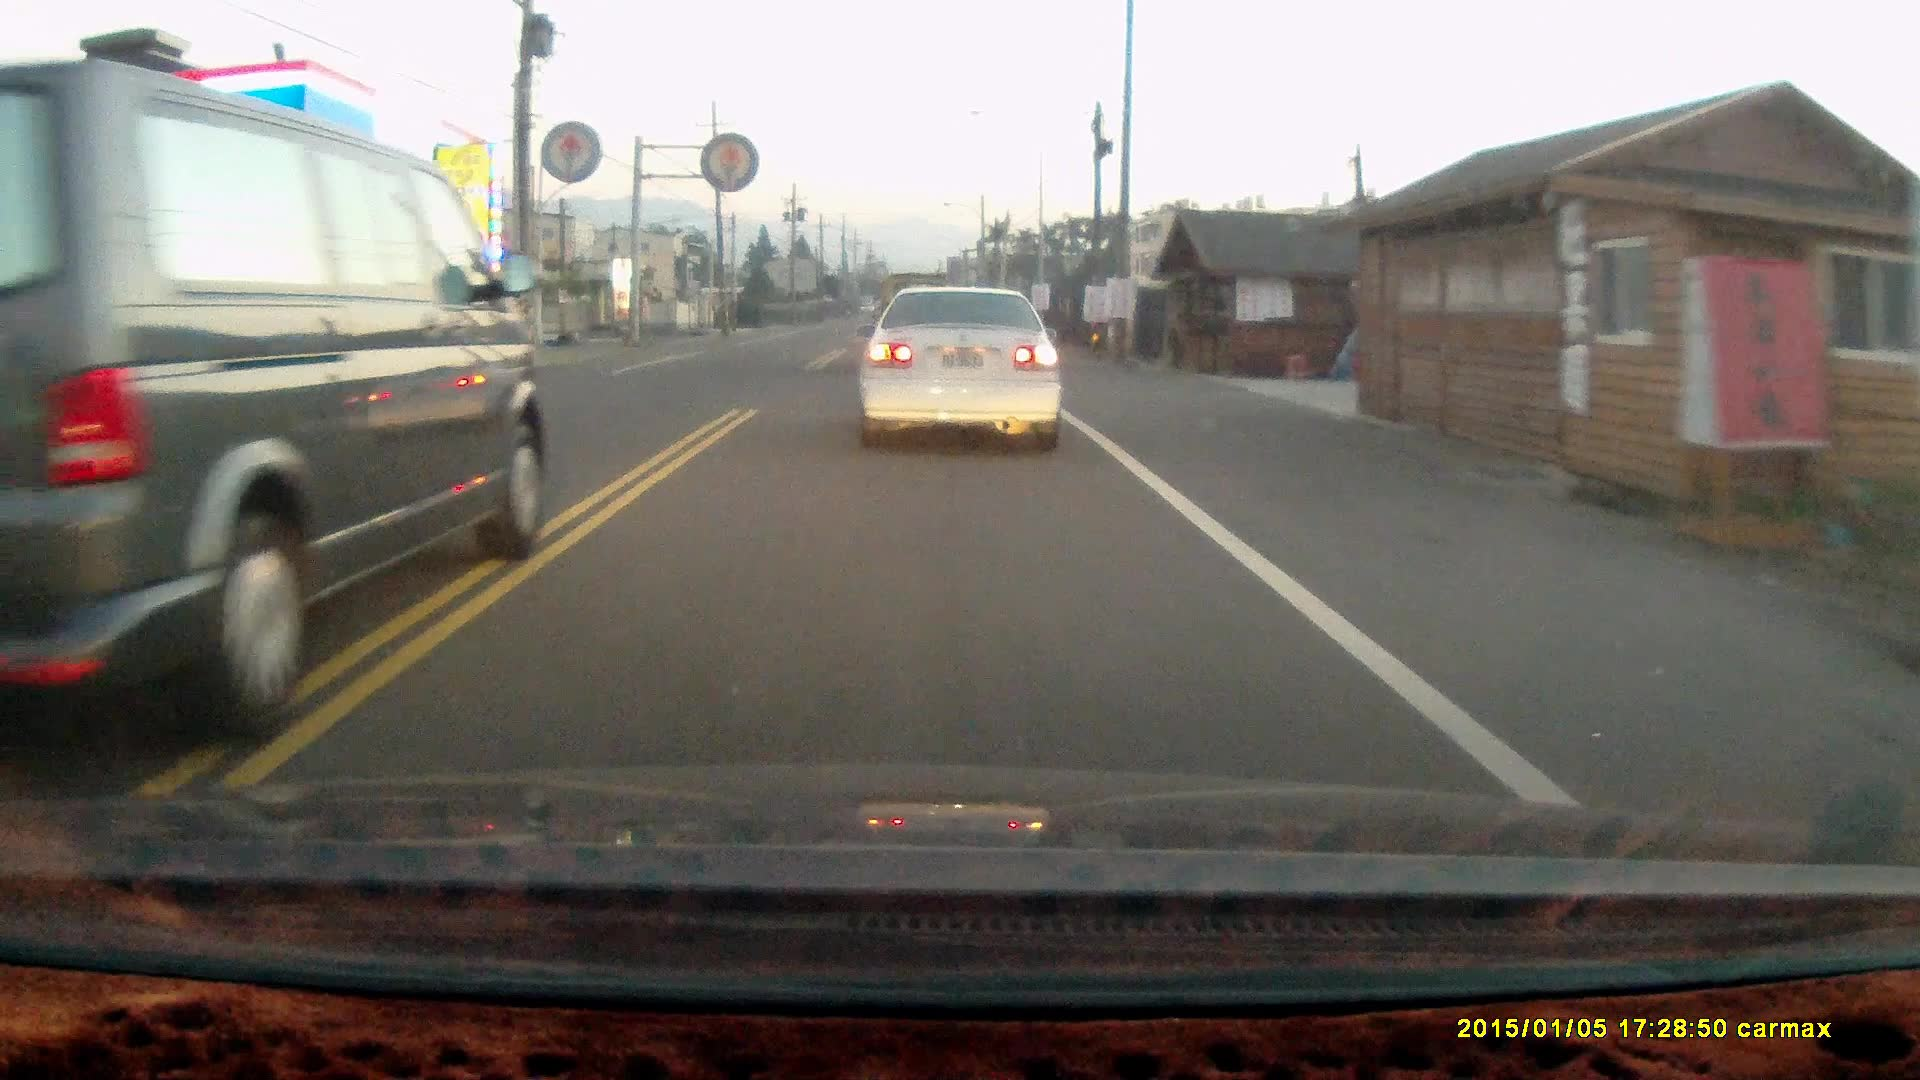vehicle: (1, 67, 551, 729), (858, 280, 1067, 456)
